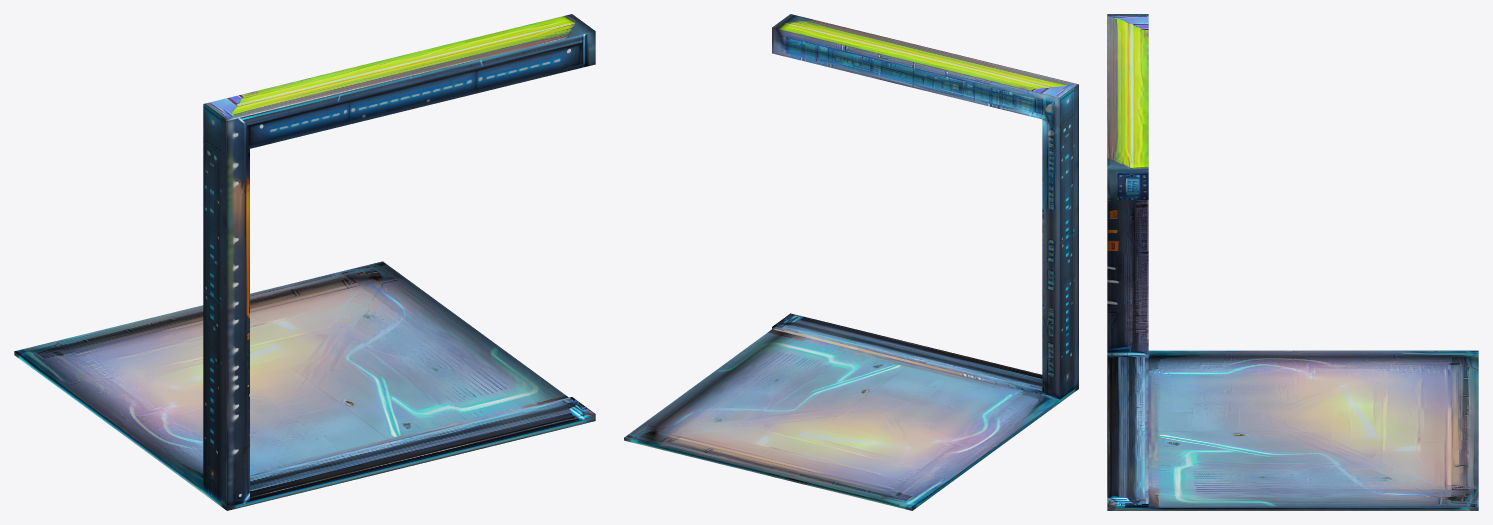
File: industrialBasicFloorBigHalfDoor.glb
3 views of the same model, side by side, from view 1: azimuth 30°, elevation 25°; view 2: azimuth 150°, elevation 25°; view 3: azimuth 270°, elevation 25° (orthographic). The views are drawn at different scales.
Visible parts, largest first — view 1: industrialBasicFloorBigHalfDoor; view 2: industrialBasicFloorBigHalfDoor; view 3: industrialBasicFloorBigHalfDoor.
Boxes of the visible parts, x1,y1,x2,y2 form: industrialBasicFloorBigHalfDoor: (14, 14, 595, 510); industrialBasicFloorBigHalfDoor: (624, 14, 1078, 510); industrialBasicFloorBigHalfDoor: (1107, 14, 1478, 510).
Bounding box in the file's own units: 1 × 1.01 × 1.
1 material, 1 textured.
